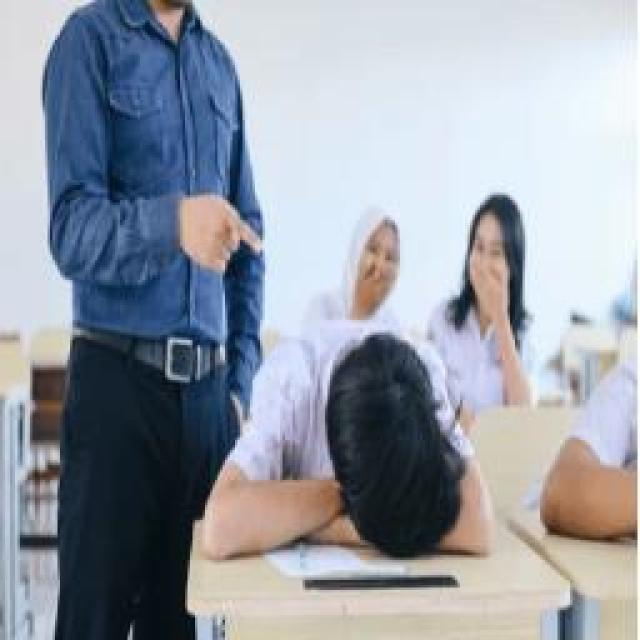sleep: (197, 310, 495, 565)
